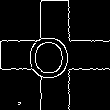O_N: (34, 30, 76, 80)
